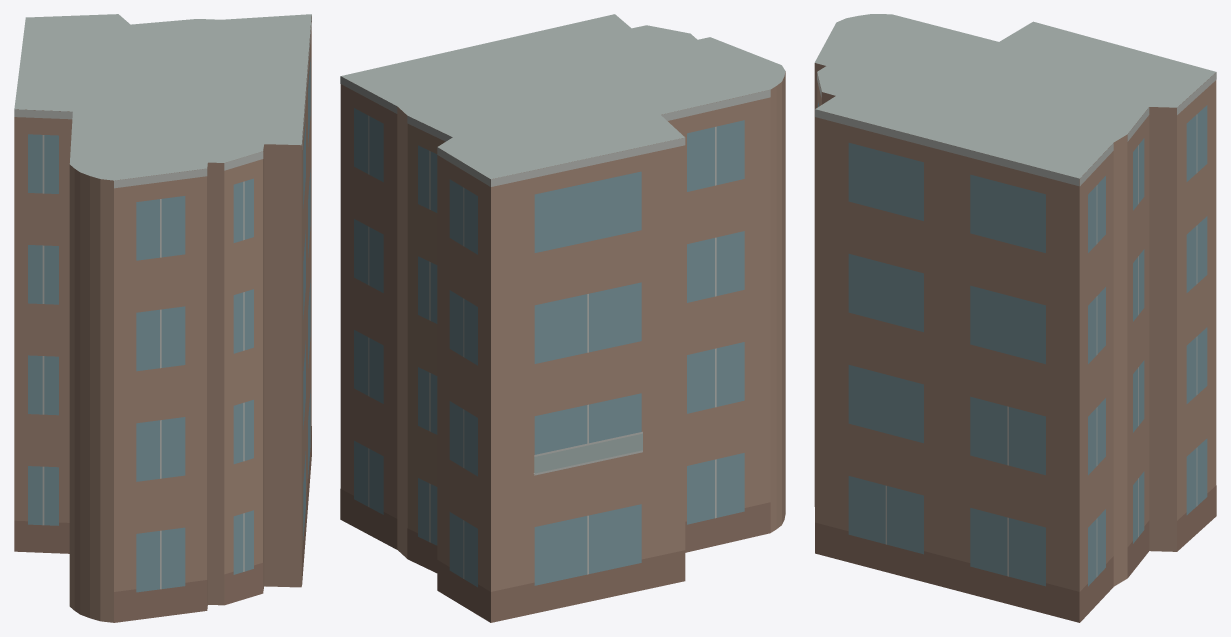
Rendered from survey-upis-32482150.glb.
3 views of the same model, side by side, from view 1: azimuth 30°, elevation 25°; view 2: azimuth 150°, elevation 25°; view 3: azimuth 270°, elevation 25° (orthographic).
Visible parts, largest first — view 1: survey-upis-32482150.tmp; view 2: survey-upis-32482150.tmp; view 3: survey-upis-32482150.tmp.
Part boxes in pixels (<box>): survey-upis-32482150.tmp: <box>14,14,311,622</box>; survey-upis-32482150.tmp: <box>340,14,785,622</box>; survey-upis-32482150.tmp: <box>814,14,1216,622</box>.
Size of the model in its own units: 11.06 by 13.9 by 11.41.
